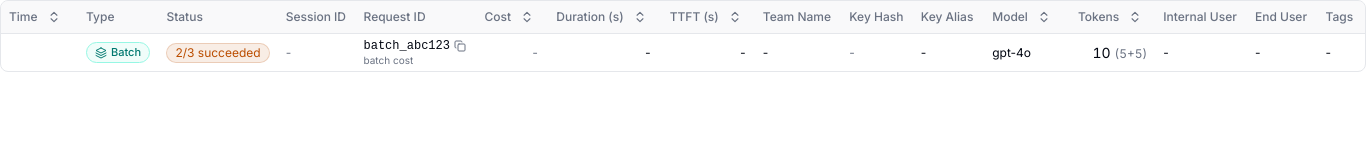
Test case: batch rows › rolls partial failures into the status badge instead of reporting blanket Success
Step 1. Hover over the text "2/3 succeeded" → x=218, y=53, box [166,43,270,63]
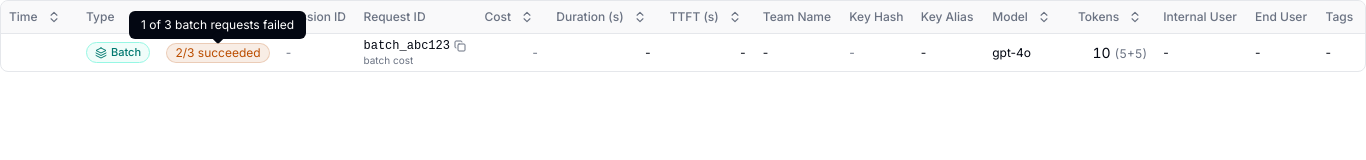
Check: the text "1 of 3 batch requests failed" is shown, box [129,11,306,39]
